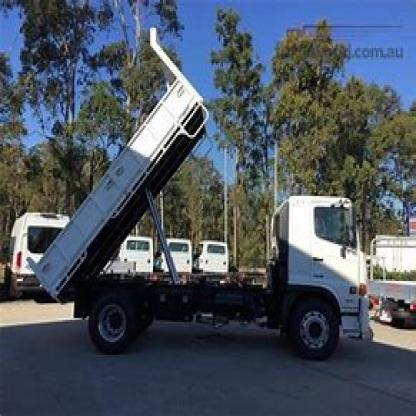dump_truck: (19, 19, 383, 358)
